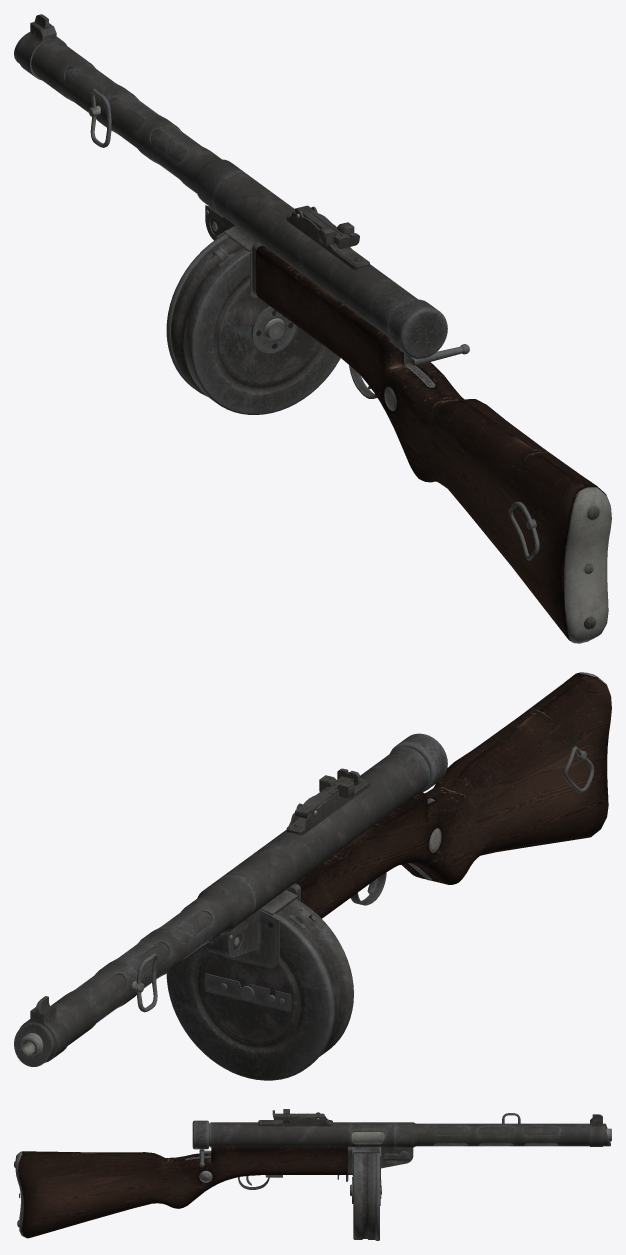
File: ase.glb
3 views of the same model, one above another, from view 1: azimuth 30°, elevation 25°; view 2: azimuth 150°, elevation 25°; view 3: azimuth 270°, elevation 25° (orthographic). The views are drawn at different scales.
Visible parts, largest first — view 1: SuomiKP31_Body, SuomiKP31_Drum, SuomiKP31_Cover, SuomiKP31_Cap, SuomiKP31_Barrel; view 2: SuomiKP31_Body, SuomiKP31_Drum, SuomiKP31_Cover, SuomiKP31_Barrel, SuomiKP31_Cap, SuomiKP31_Sight; view 3: SuomiKP31_Body, SuomiKP31_Cover, SuomiKP31_Drum, SuomiKP31_Barrel, SuomiKP31_Cap, SuomiKP31_Bolt, SuomiKP31_Sight, SuomiKP31_Lock.
Boxes of the visible parts, box(x1,y1,x2,y2) form: SuomiKP31_Body: box(205, 172, 611, 643); SuomiKP31_Drum: box(166, 226, 340, 414); SuomiKP31_Cover: box(14, 14, 247, 212); SuomiKP31_Cap: box(388, 299, 447, 358); SuomiKP31_Barrel: box(64, 67, 187, 162); SuomiKP31_Body: box(205, 672, 611, 957); SuomiKP31_Drum: box(166, 890, 353, 1080); SuomiKP31_Cover: box(14, 875, 255, 1066); SuomiKP31_Barrel: box(19, 911, 211, 1058); SuomiKP31_Cap: box(390, 733, 447, 791); SuomiKP31_Sight: box(295, 768, 359, 818); SuomiKP31_Body: box(14, 1112, 413, 1238); SuomiKP31_Cover: box(394, 1113, 610, 1155); SuomiKP31_Drum: box(350, 1147, 381, 1240); SuomiKP31_Barrel: box(433, 1127, 611, 1141); SuomiKP31_Cap: box(192, 1120, 208, 1149); SuomiKP31_Bolt: box(351, 1131, 384, 1142); SuomiKP31_Sight: box(272, 1110, 324, 1120); SuomiKP31_Lock: box(384, 1151, 410, 1160).
Bounding box in the file's own units: 15.6 × 21.19 × 92.33.
Materials: 1 (1 with a texture image).
